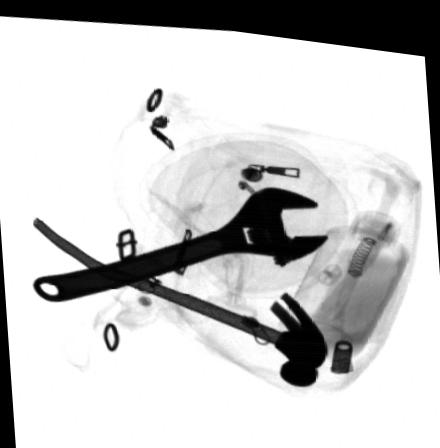Hammer: (29, 215, 328, 376)
Wrench: (32, 176, 329, 301)
